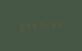eight: (17, 22, 23, 32)
five: (31, 20, 37, 31)
four: (45, 19, 51, 30), (59, 18, 65, 28)
seven: (24, 21, 30, 31), (38, 20, 44, 30)
three: (52, 18, 58, 29)
